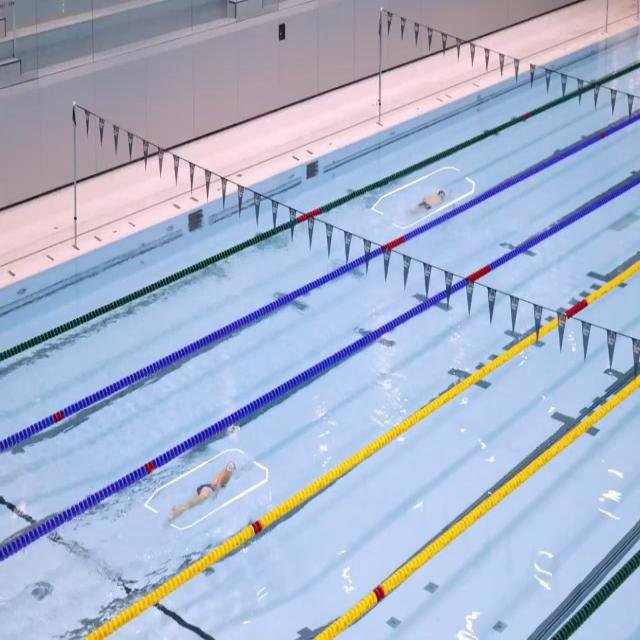Swimming: (168, 460, 235, 528), (418, 186, 446, 213)
